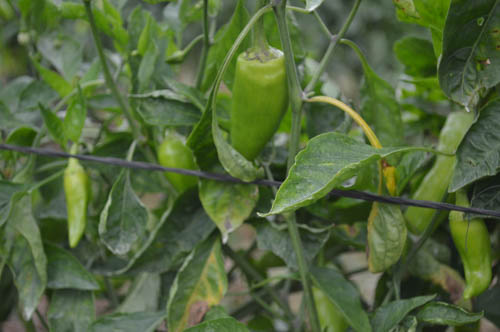ChiliPepper: (403, 109, 473, 259), (229, 53, 290, 168), (451, 210, 489, 303), (62, 167, 92, 247), (160, 140, 197, 195)
